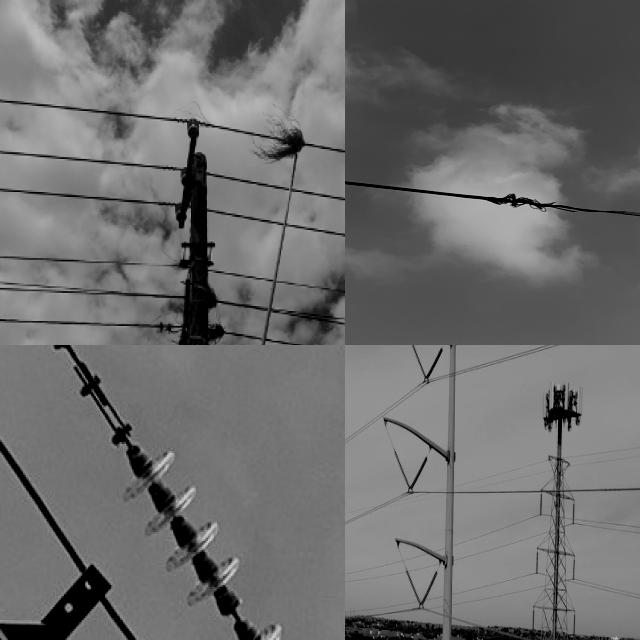杆塔: (520, 449, 585, 640)
植被遮挡: (250, 110, 311, 168)
正常绝缘子: (85, 405, 302, 640), (390, 439, 414, 495), (406, 449, 432, 498), (416, 566, 442, 615), (401, 563, 426, 613), (420, 345, 447, 391), (409, 345, 431, 387), (533, 487, 546, 522), (529, 548, 542, 581), (567, 494, 578, 532), (527, 602, 537, 640), (570, 551, 580, 584), (570, 608, 579, 640)
电缆破损: (492, 180, 640, 245)
绝缘子破损: (212, 594, 257, 635)
